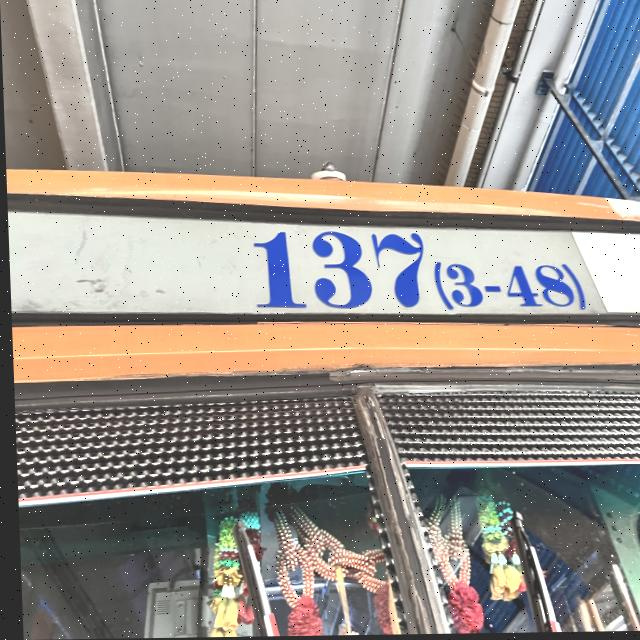BMTA-bus: (5, 173, 640, 640)
Bus Line Number: (238, 219, 592, 320)
